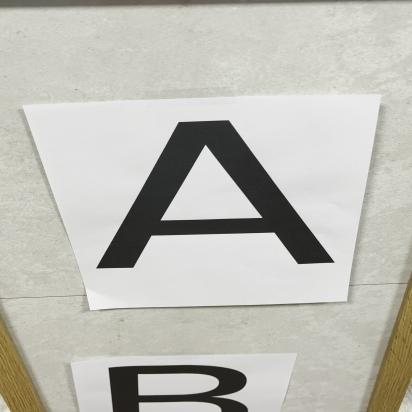seat: (96, 122, 365, 286)
